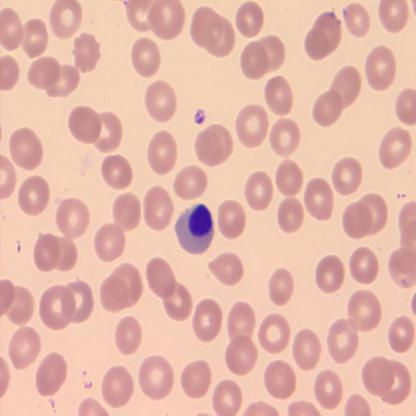NRC: (174, 200, 216, 256)
